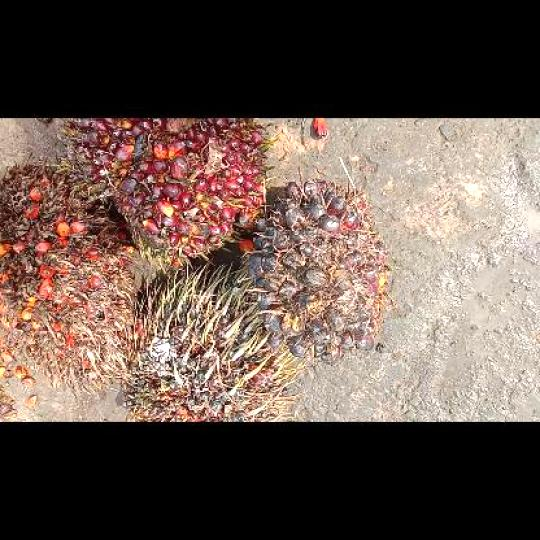masak: (66, 117, 266, 256)
terlalu masak: (0, 157, 134, 395)
